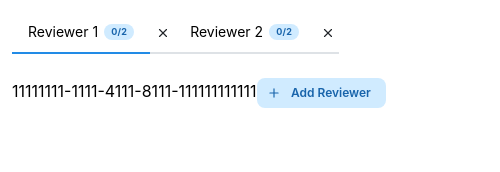
Scenario: ReviewerTabs › renders active multi-reviewer tabs and selects the clicked reviewer
Check: the element with test id "reviewer-tabs" is shown, box [12, 12, 386, 108]
Check: the element with test id "reviewer-content" shows "11111111-1111-4111-8111-111111111111", box [12, 82, 257, 102]
What coordinates should you click on to do the following:
click the tab "Reviewer 2 0/2"
I would click on:
 (245, 33)
Its box is [174, 12, 315, 54].
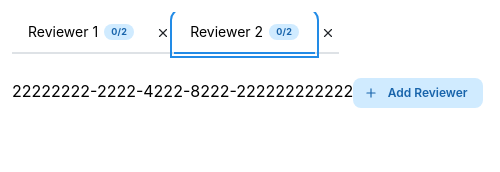
Check: the element with test id "reviewer-content" shows "22222222-2222-4222-8222-222222222222", box [12, 82, 353, 102]
